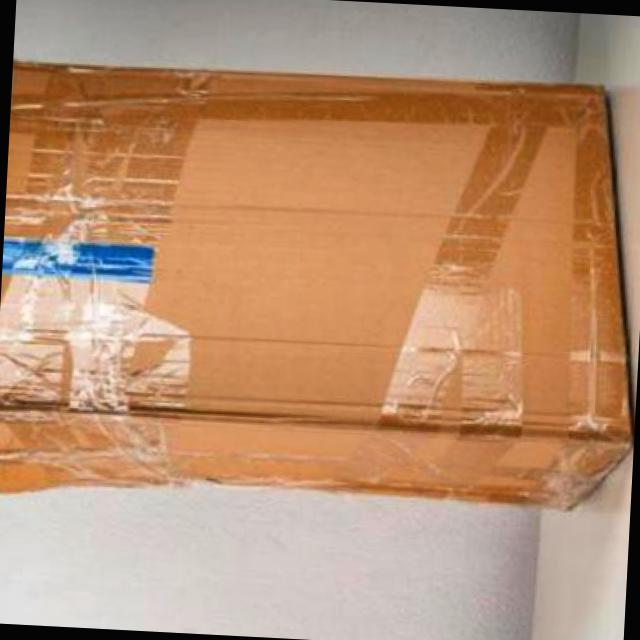box: (0, 40, 640, 550)
